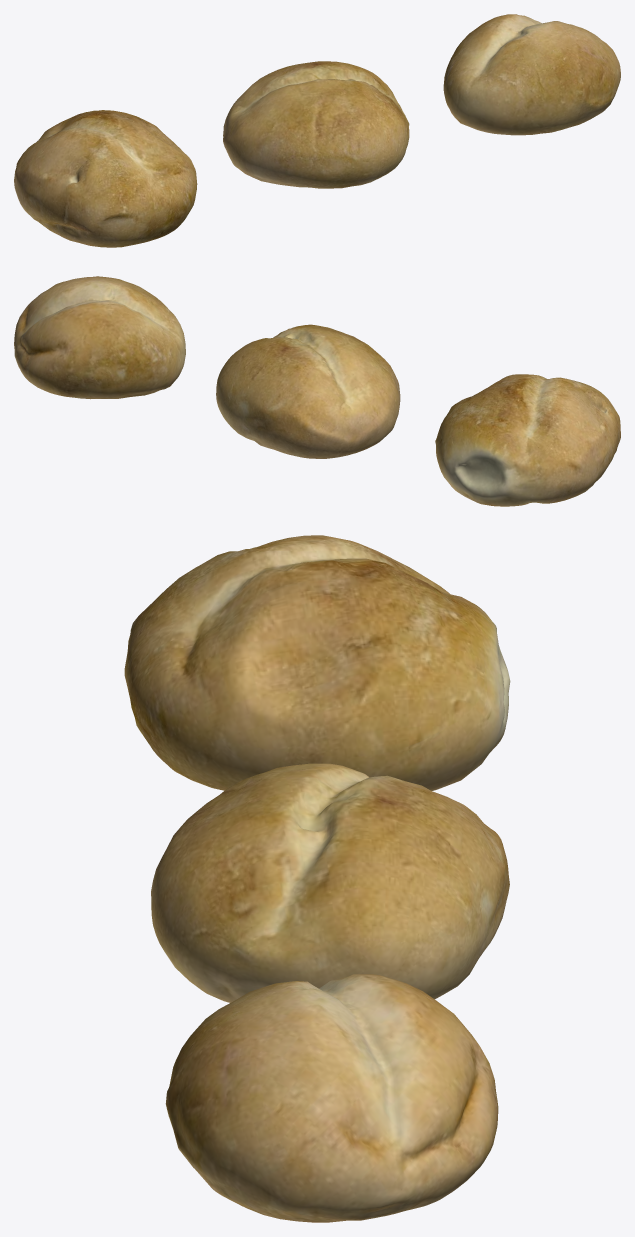
3 views of the same model, one above another, from view 1: azimuth 30°, elevation 25°; view 2: azimuth 150°, elevation 25°; view 3: azimuth 270°, elevation 25° (orthographic). The views are drawn at different scales.
Visible parts, largest first — view 1: hamburger_buns_01, hamburger_buns_02, hamburger_buns_03; view 2: hamburger_buns_01, hamburger_buns_02, hamburger_buns_03; view 3: hamburger_buns_01, hamburger_buns_02, hamburger_buns_03.
Boxes of the visible parts, x1,y1,x2,y2 form: hamburger_buns_01: [14, 110, 197, 247]; hamburger_buns_02: [223, 61, 409, 188]; hamburger_buns_03: [443, 14, 620, 135]; hamburger_buns_01: [435, 374, 620, 506]; hamburger_buns_02: [216, 324, 400, 458]; hamburger_buns_03: [14, 276, 185, 399]; hamburger_buns_01: [124, 535, 510, 790]; hamburger_buns_02: [151, 763, 509, 1002]; hamburger_buns_03: [165, 974, 498, 1222].
Size of the model in its own units: 0.3972 by 0.0634 by 0.1138.
Materials: 1 (1 with a texture image).
